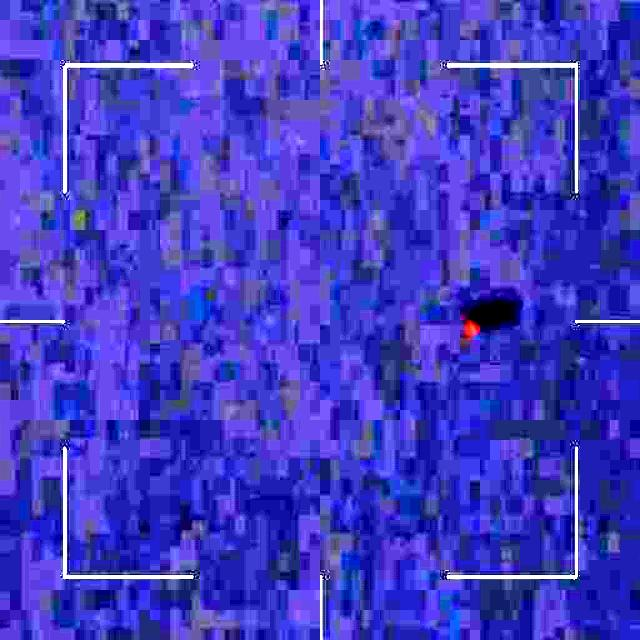bird: (462, 308, 491, 358)
